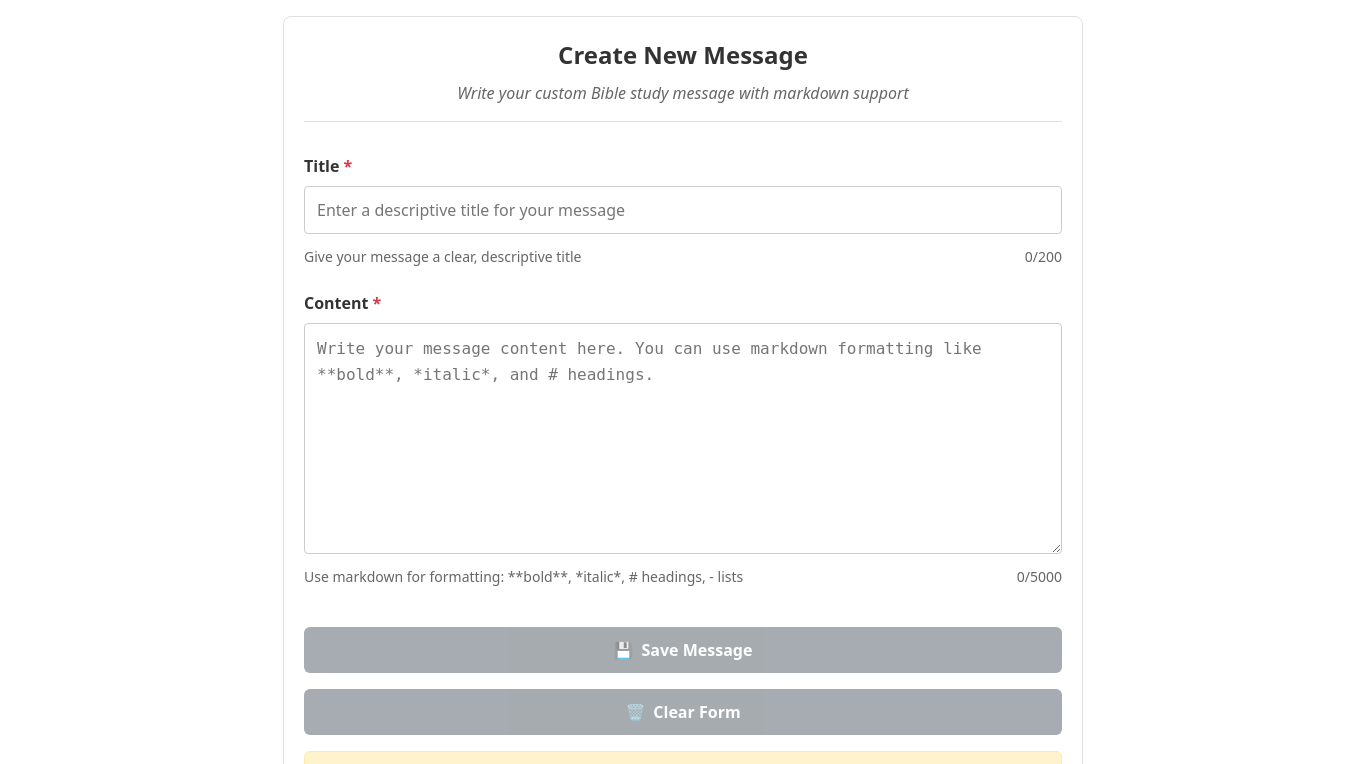
Test: MessageEditor Component › Input Focus and User Experience › focuses confirmation dialog when opened
The image size is (1366, 764).
In the field labelled "Title *": (683, 210) x1=304 y1=186 x2=1062 y2=234, type "Test"
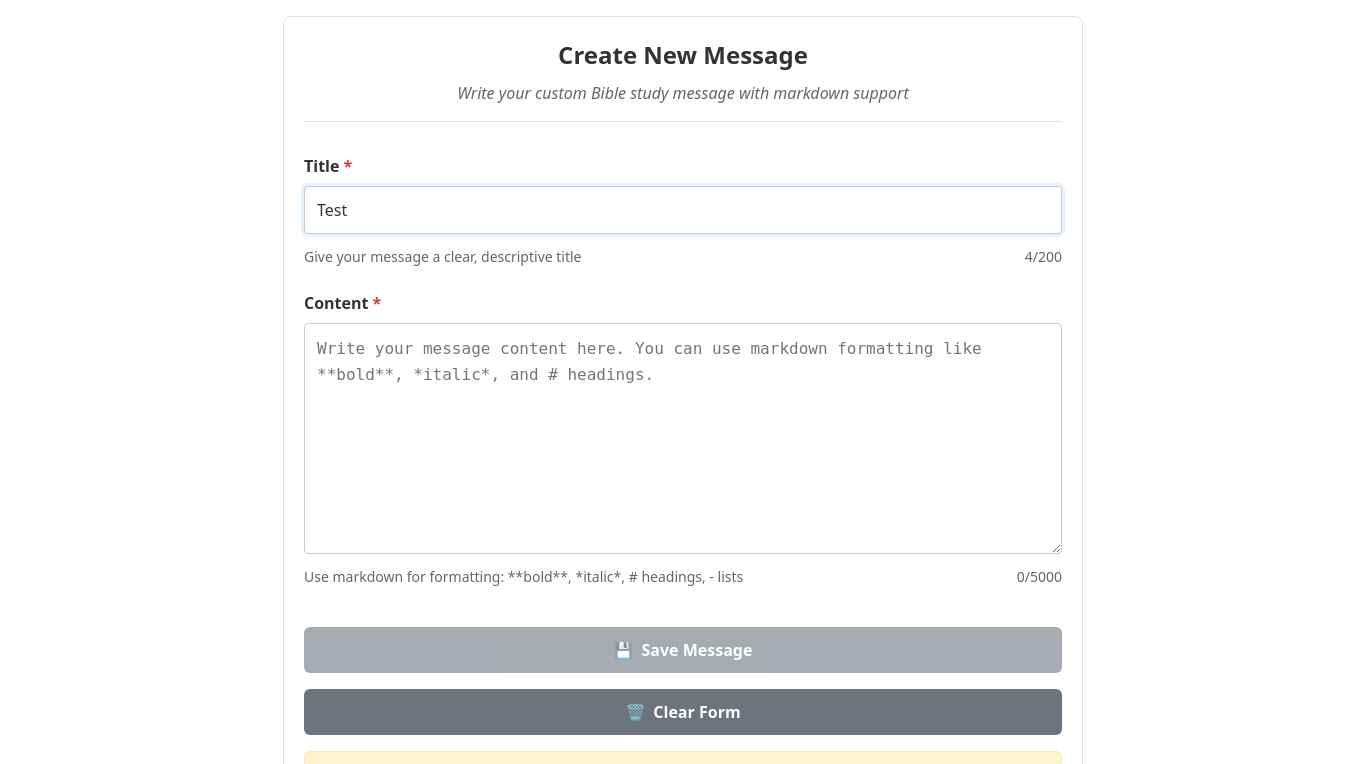
Click the button "🗑️ Clear Form": (683, 712) x1=304 y1=689 x2=1062 y2=735
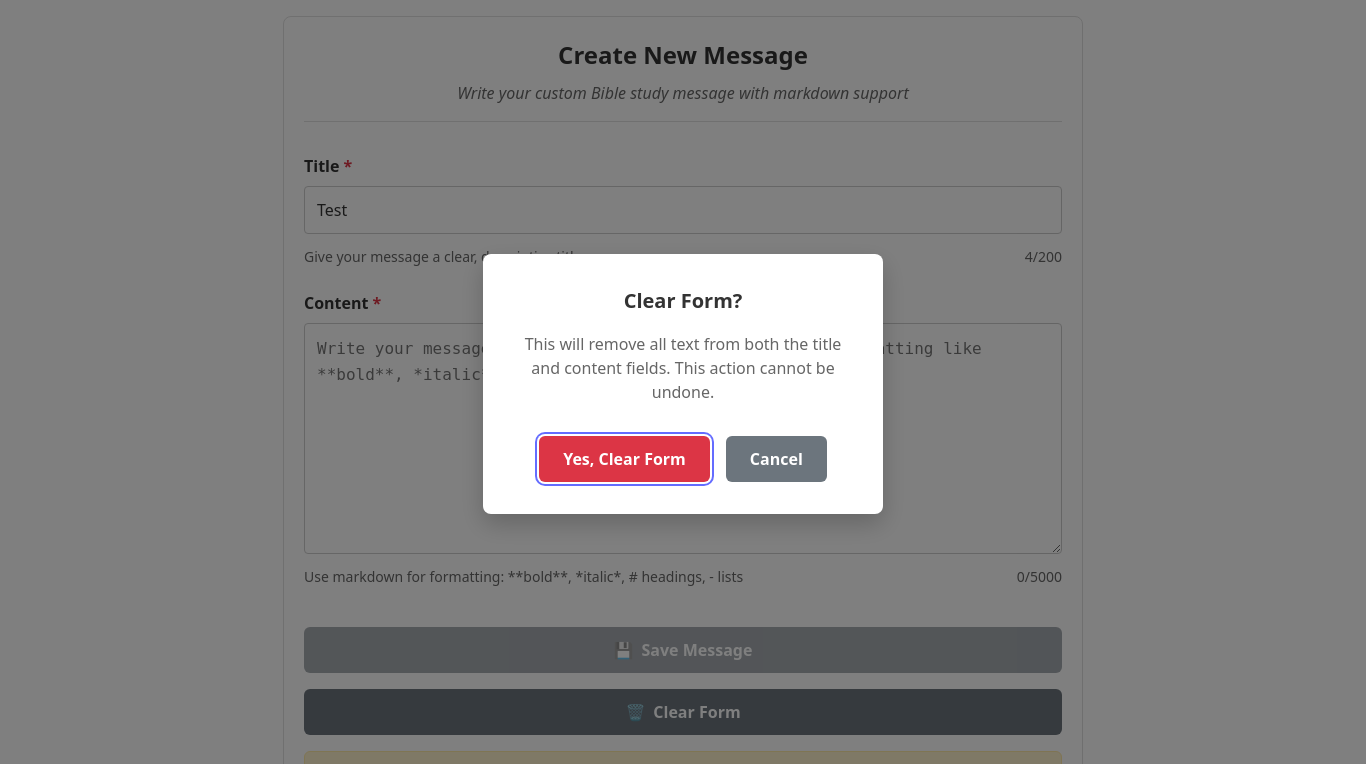
expect the button "Yes, Clear Form" is shown: met, box x1=539 y1=436 x2=710 y2=482
